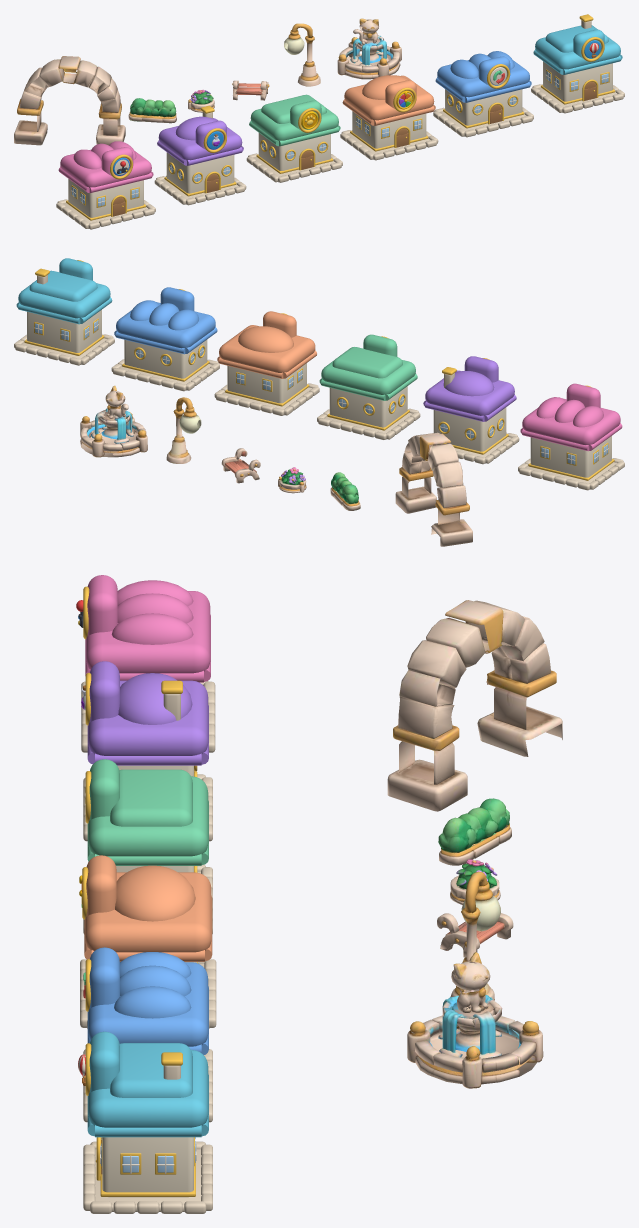
Rendered from Town.glb.
The picture shows the model from 3 angles, top to bottom: view 1: azimuth 30°, elevation 25°; view 2: azimuth 150°, elevation 25°; view 3: azimuth 270°, elevation 25°; orthographic projection. The views are drawn at different scales.
Visible parts, largest first — view 1: Prop__Archway, BuildingTrade__roof, BuildingArcade__roof, BuildingSpin__roof, BuildingShop__roof, BuildingTrips__roof, Prop__CatFountain, BuildingPotion__roof, BuildingPotion__wall, BuildingTrips__wall, BuildingArcade__wall, BuildingShop__wall (+18 smaller); view 2: Prop__Archway, BuildingTrade__roof, BuildingArcade__roof, BuildingSpin__roof, BuildingShop__roof, BuildingTrips__roof, BuildingPotion__roof, Prop__CatFountain, BuildingArcade__wall, BuildingTrips__wall, BuildingShop__wall, BuildingPotion__wall (+18 smaller); view 3: Prop__Archway, BuildingShop__roof, BuildingArcade__roof, BuildingSpin__roof, BuildingTrips__roof, BuildingTrade__roof, Prop__CatFountain, BuildingPotion__roof, BuildingTrips__wall, BuildingTrips__stone, Prop__Hedge, Prop__StreetLamp (+6 smaller).
Boxes of the visible parts, bbox=[...] form: Prop__Archway: bbox=[14, 56, 125, 145]; BuildingTrade__roof: bbox=[435, 51, 531, 102]; BuildingArcade__roof: bbox=[58, 141, 153, 192]; BuildingSpin__roof: bbox=[342, 75, 435, 125]; BuildingShop__roof: bbox=[249, 94, 340, 146]; BuildingTrips__roof: bbox=[533, 25, 622, 74]; Prop__CatFountain: bbox=[337, 18, 401, 79]; BuildingPotion__roof: bbox=[157, 116, 243, 165]; BuildingPotion__wall: bbox=[166, 152, 234, 193]; BuildingTrips__wall: bbox=[543, 61, 612, 101]; BuildingArcade__wall: bbox=[68, 179, 143, 217]; BuildingShop__wall: bbox=[258, 133, 330, 170]; Prop__Archway: bbox=[395, 432, 472, 546]; BuildingTrade__roof: bbox=[114, 287, 217, 354]; BuildingArcade__roof: bbox=[520, 383, 622, 451]; BuildingSpin__roof: bbox=[217, 311, 316, 378]; BuildingShop__roof: bbox=[319, 334, 417, 400]; BuildingTrips__roof: bbox=[16, 258, 112, 324]; BuildingPotion__roof: bbox=[423, 356, 516, 421]; Prop__CatFountain: bbox=[80, 385, 147, 457]; BuildingArcade__wall: bbox=[530, 436, 611, 477]; BuildingTrips__wall: bbox=[27, 310, 101, 352]; BuildingShop__wall: bbox=[329, 386, 407, 427]; BuildingPotion__wall: bbox=[433, 407, 506, 451]; Prop__Archway: bbox=[387, 600, 562, 811]; BuildingShop__roof: bbox=[87, 759, 208, 865]; BuildingArcade__roof: bbox=[85, 575, 210, 682]; BuildingSpin__roof: bbox=[84, 855, 212, 961]; BuildingTrips__roof: bbox=[87, 1031, 208, 1137]; BuildingTrade__roof: bbox=[87, 947, 208, 1054]; Prop__CatFountain: bbox=[407, 952, 543, 1088]; BuildingPotion__roof: bbox=[87, 661, 208, 765]; BuildingTrips__wall: bbox=[102, 1137, 193, 1197]; BuildingTrips__stone: bbox=[83, 1065, 212, 1213]; Prop__Hedge: bbox=[438, 798, 511, 865]; Prop__StreetLamp: bbox=[450, 871, 500, 1000].
Bounding box in the file's own units: 114 × 16 × 44.65.
73 materials, 1 textured.
